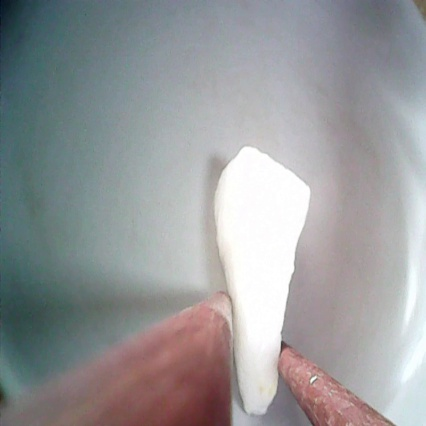white_chinese-yam: (211, 146, 317, 414)
